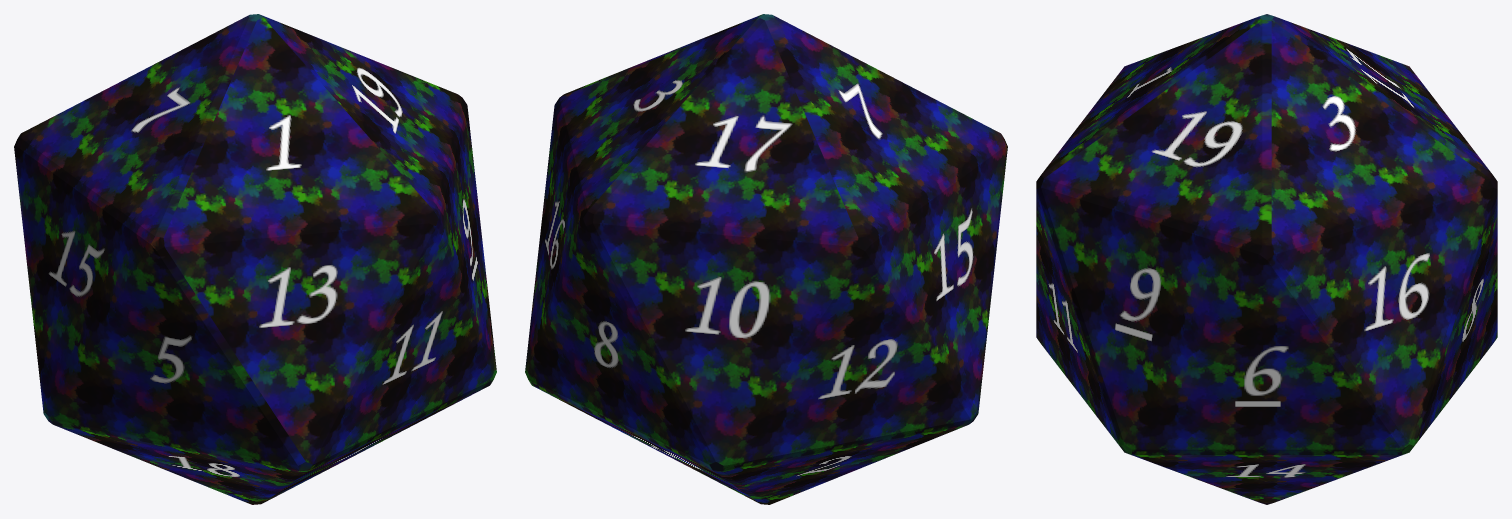
3 renders of one model, left to right at view 1: azimuth 30°, elevation 25°; view 2: azimuth 150°, elevation 25°; view 3: azimuth 270°, elevation 25°, orthographic.
Visible parts, largest first — view 1: Icosphere; view 2: Icosphere; view 3: Icosphere.
Boxes of the visible parts, box(x1,y1,x2,y2) form: Icosphere: box(14, 14, 496, 504); Icosphere: box(525, 14, 1007, 504); Icosphere: box(1036, 14, 1497, 504).
Bounding box in the file's own units: 178 × 196 × 169.
1 material, 1 textured.
